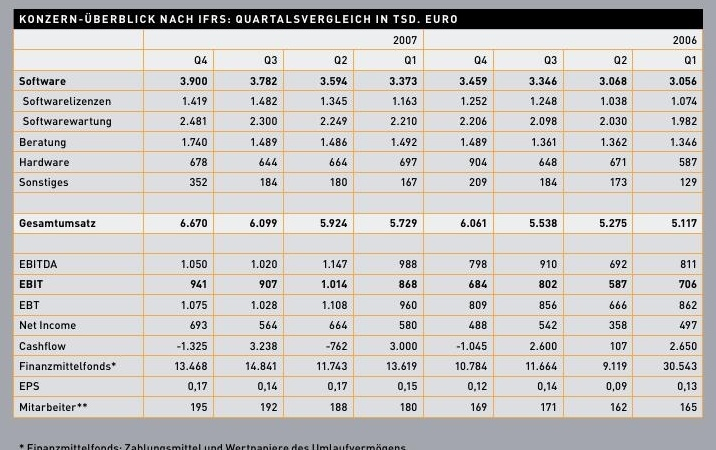table: (0, 0, 716, 450)
